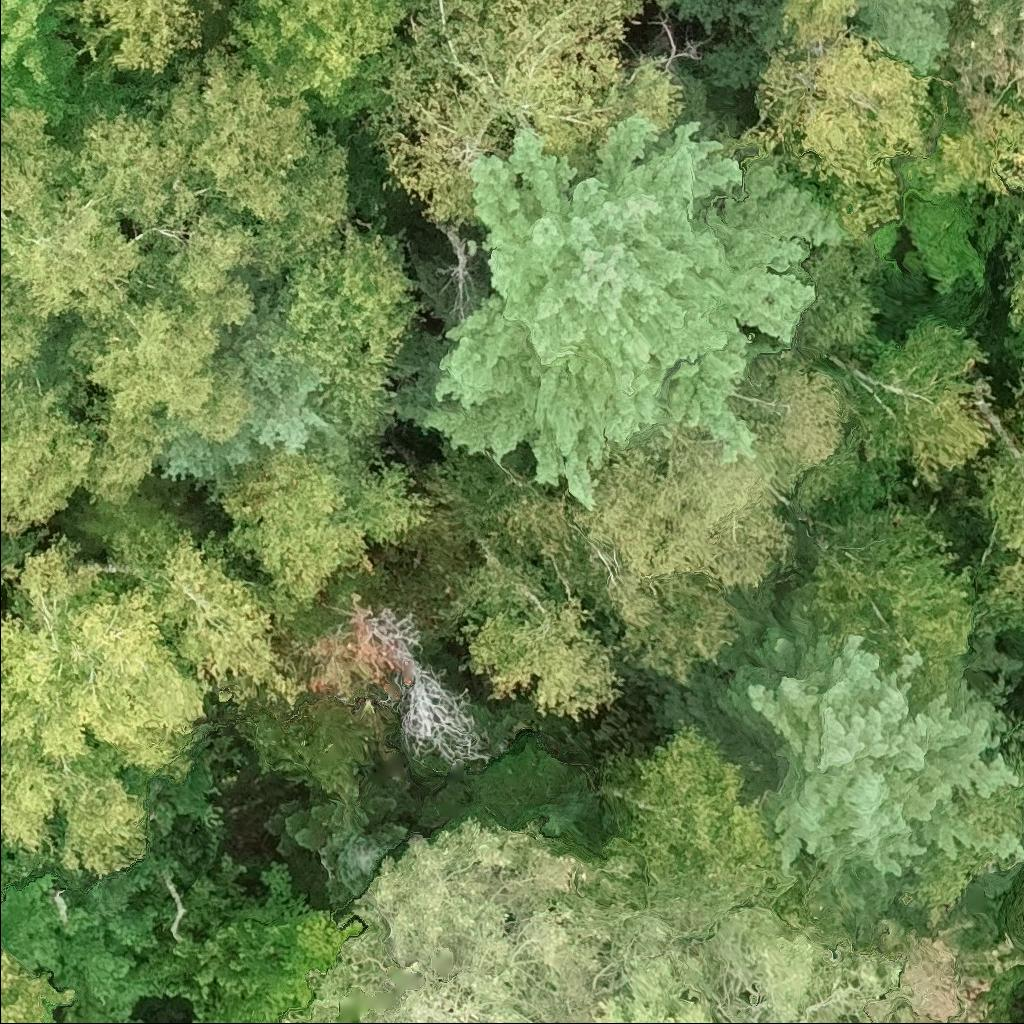crown: (394, 73, 850, 509), (647, 589, 1023, 948), (422, 423, 798, 686), (0, 93, 262, 438), (279, 816, 643, 1023), (362, 0, 687, 227), (0, 531, 214, 785), (210, 218, 426, 454), (79, 493, 309, 714), (144, 45, 355, 282), (588, 887, 915, 1023), (735, 33, 943, 236), (808, 498, 982, 708), (218, 446, 439, 609), (598, 719, 774, 905), (438, 554, 624, 723), (152, 337, 361, 483), (0, 373, 168, 534), (213, 0, 413, 132), (846, 313, 993, 486), (417, 736, 603, 857), (0, 743, 153, 876), (263, 780, 409, 912), (868, 902, 1023, 1023), (730, 349, 851, 478), (52, 0, 224, 89), (912, 94, 1023, 223), (0, 0, 84, 134), (944, 0, 1023, 127), (971, 442, 1023, 628), (846, 0, 961, 77), (0, 938, 74, 1023), (761, 0, 860, 53), (998, 222, 1023, 370), (1003, 368, 1023, 449)
